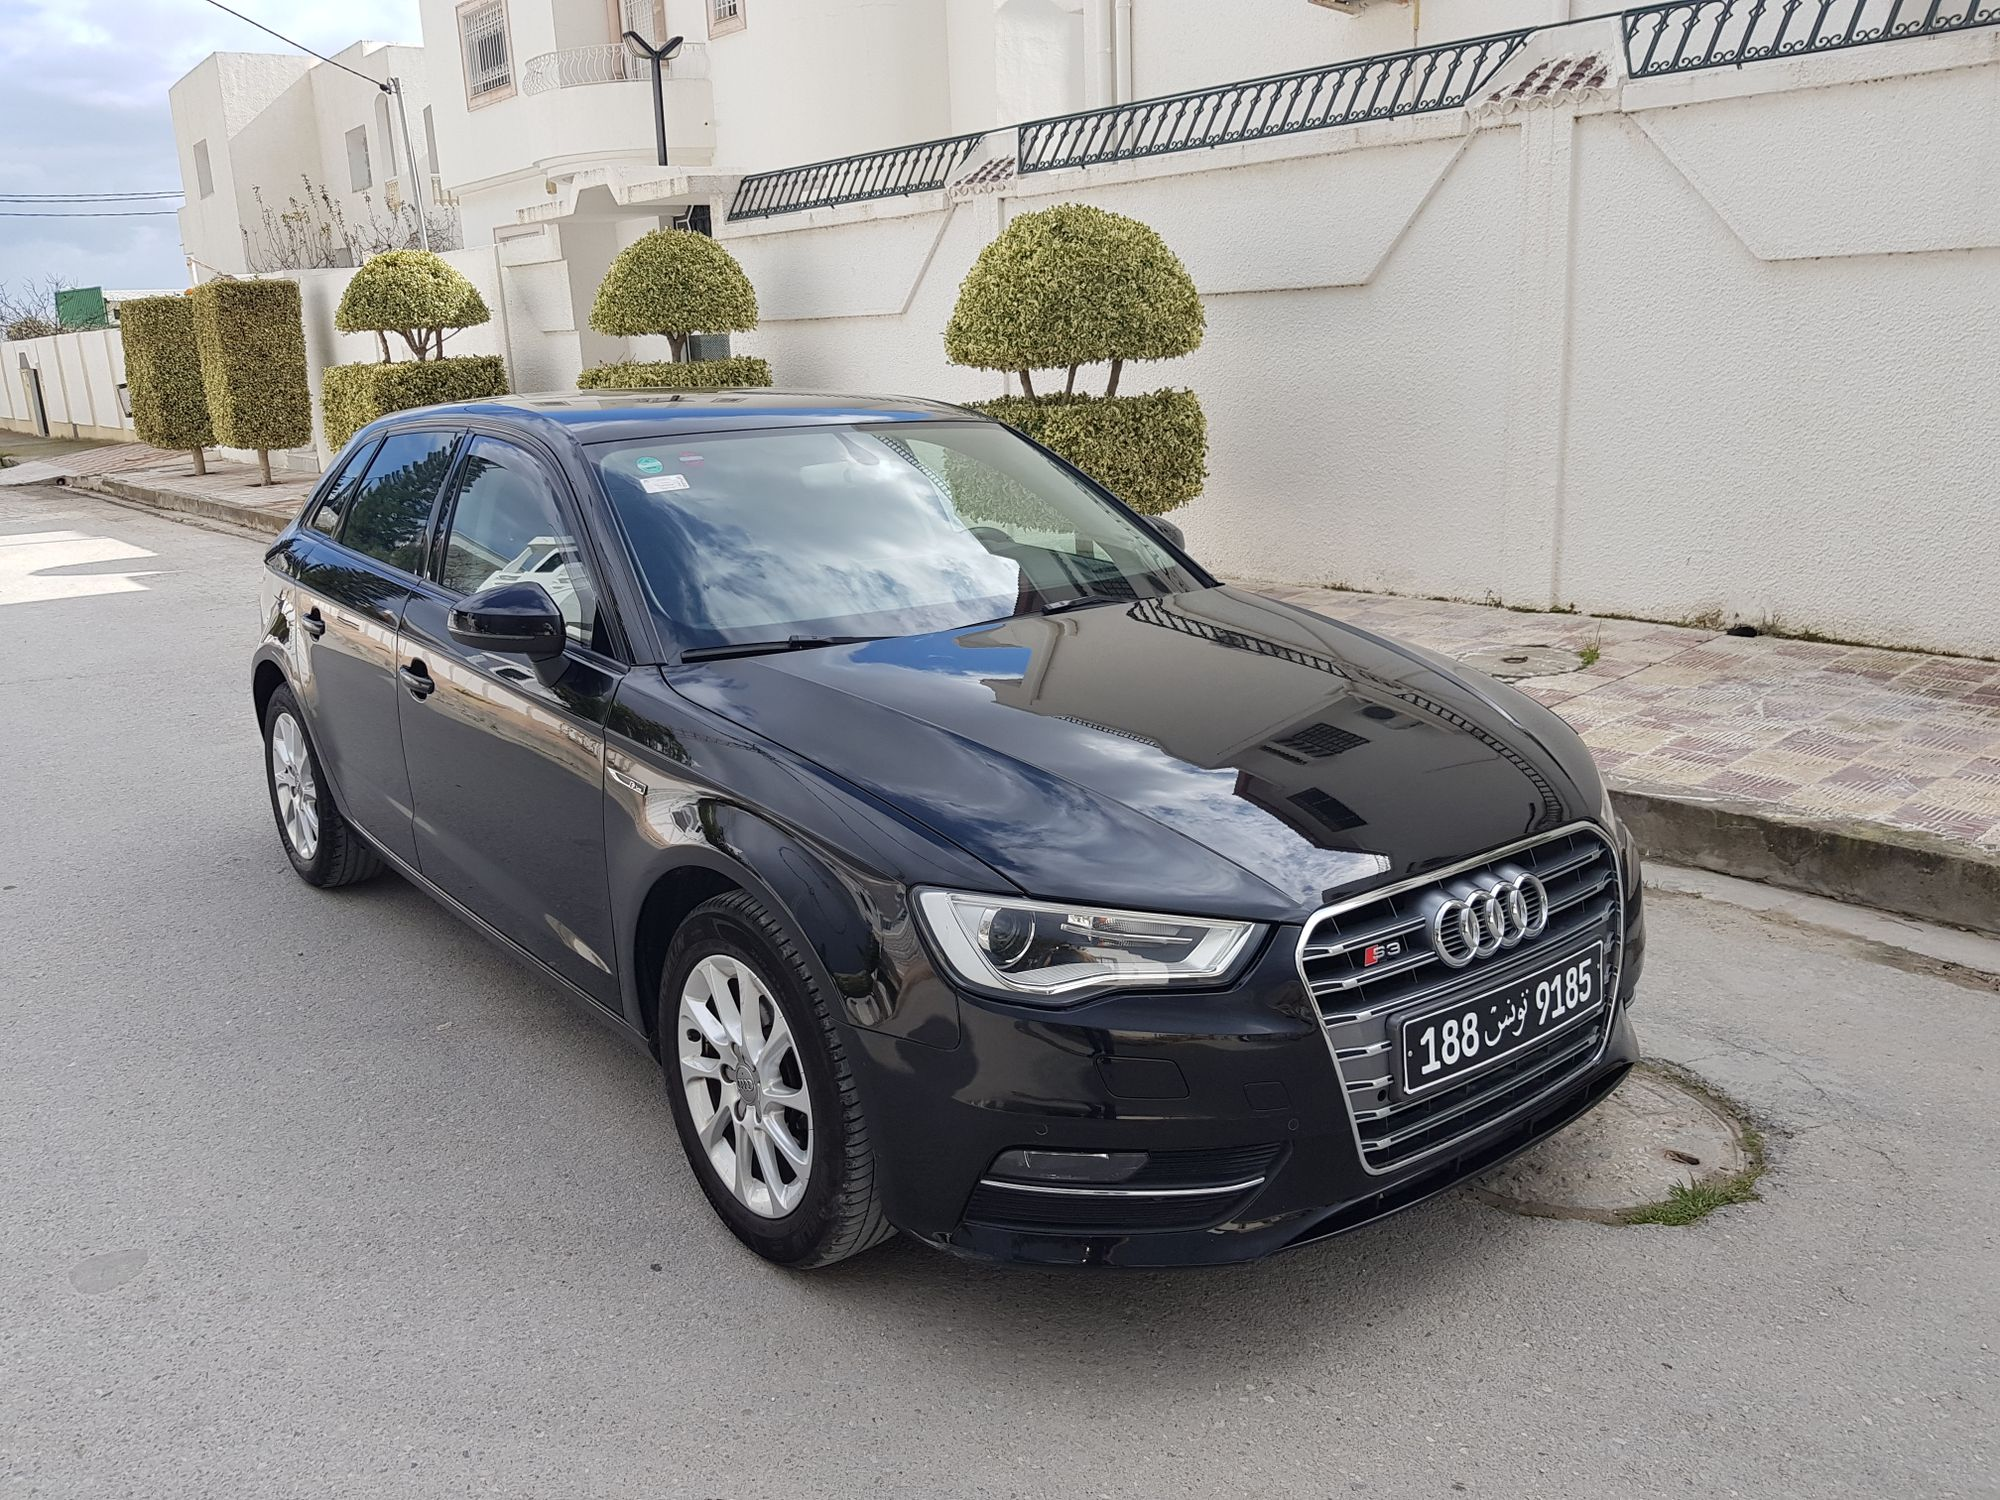LP: (1392, 934, 1610, 1095)
